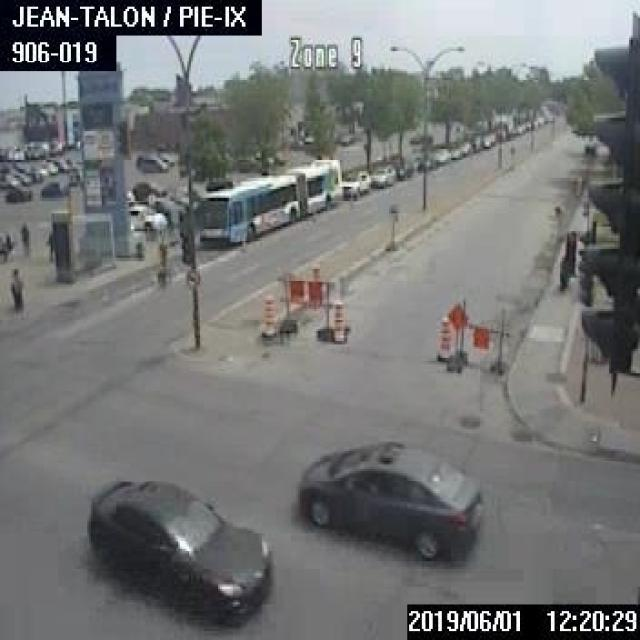bus: (195, 156, 342, 249)
construction: (444, 298, 507, 371), (275, 263, 333, 340), (434, 314, 451, 360), (259, 292, 276, 337), (331, 297, 345, 343)
pedestrian: (7, 256, 22, 311), (564, 229, 576, 275), (556, 247, 568, 291), (44, 224, 56, 264), (18, 220, 27, 253)
vehicle: (82, 474, 273, 624), (294, 436, 483, 564), (127, 203, 165, 227), (342, 168, 368, 196), (130, 180, 164, 198), (369, 163, 394, 185), (38, 180, 67, 196), (138, 156, 166, 171), (44, 154, 69, 170), (0, 232, 13, 261), (4, 186, 30, 200), (464, 129, 481, 150), (409, 132, 434, 144), (0, 171, 18, 187), (396, 159, 412, 175), (433, 146, 449, 162), (12, 172, 32, 184), (24, 168, 42, 181), (582, 139, 595, 154), (41, 160, 57, 172), (156, 153, 173, 164), (30, 165, 47, 175), (481, 132, 493, 146), (449, 145, 462, 157), (459, 141, 471, 154)
